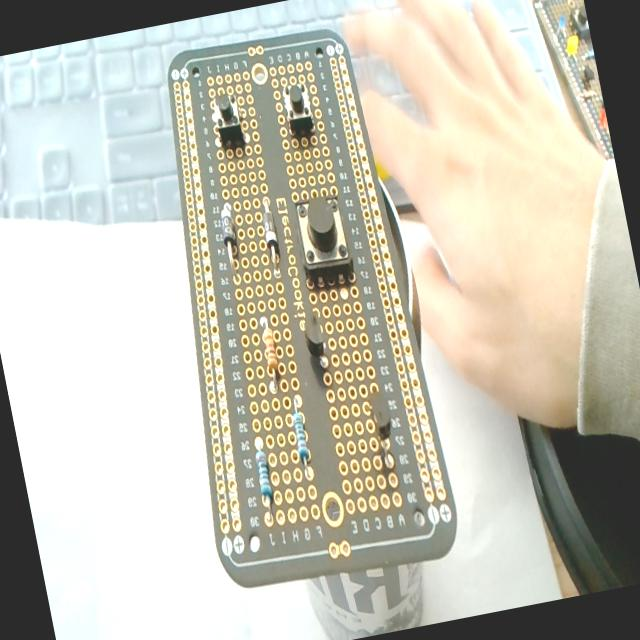diode: (212, 199, 250, 292), (253, 195, 290, 285)
resistor: (278, 397, 319, 494), (250, 307, 290, 405), (244, 422, 284, 518)
switch: (290, 190, 358, 284), (205, 82, 250, 148), (279, 77, 316, 135)
transistor: (294, 300, 340, 392), (362, 384, 403, 478)
